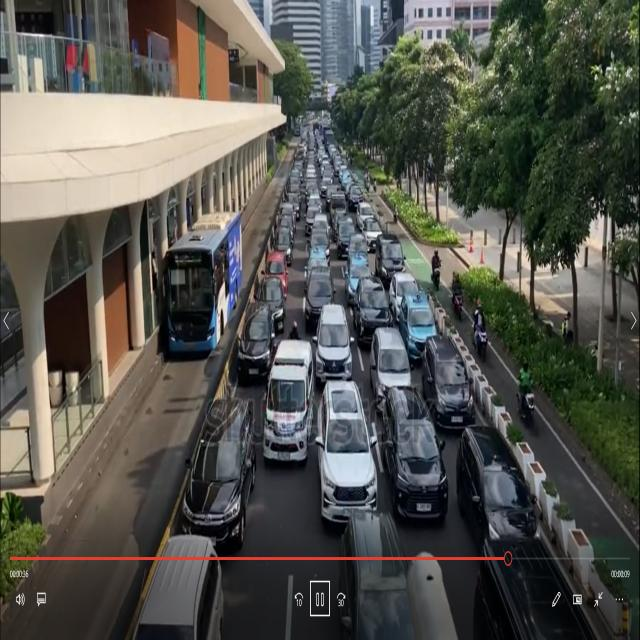Ambulance: (262, 332, 316, 458)
